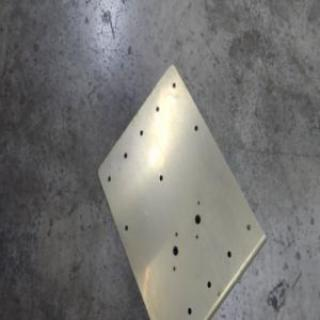MetalSheettrack_idkeyframe: (96, 61, 268, 319)
